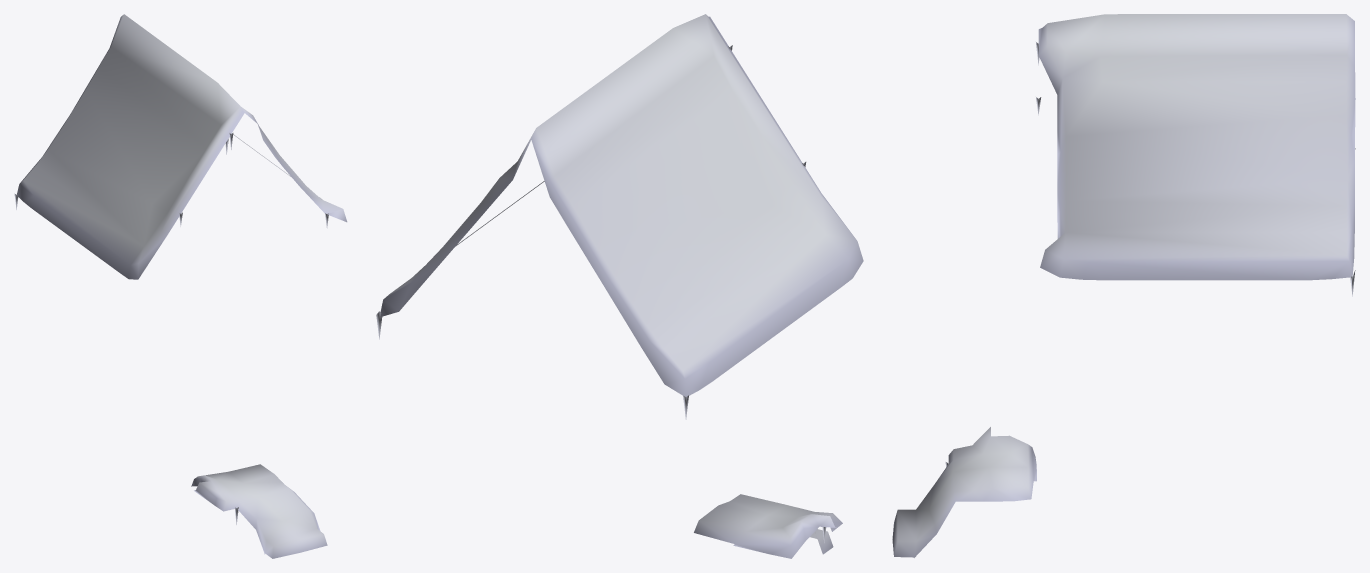
File: category.bridge.xs.snow.glb
The picture shows the model from 3 angles, left to right: view 1: azimuth 30°, elevation 25°; view 2: azimuth 150°, elevation 25°; view 3: azimuth 270°, elevation 25°; orthographic projection. The views are drawn at different scales.
Visible parts, largest first — view 1: snow; view 2: snow; view 3: snow.
Part boxes in pixels (box(x1,y1,x2,y2)): snow: box(14, 14, 347, 558); snow: box(376, 14, 863, 558); snow: box(892, 14, 1355, 557).
Size of the model in its own units: 2.2 by 4.03 by 3.22.
